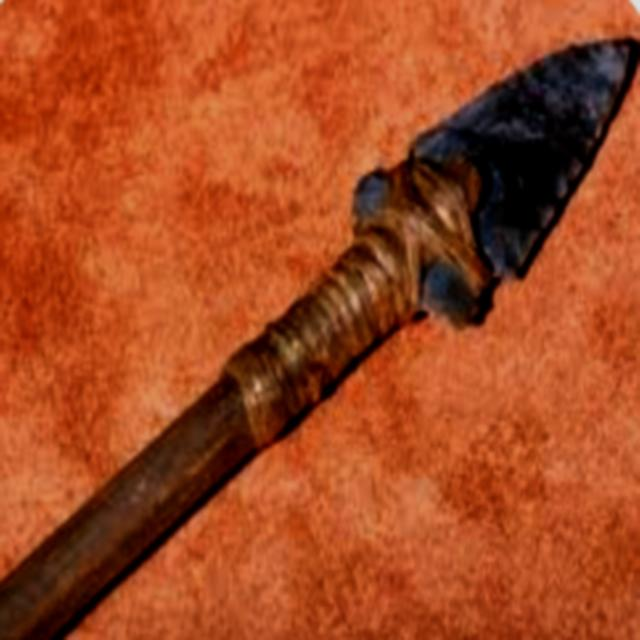spear: (7, 26, 635, 620)
